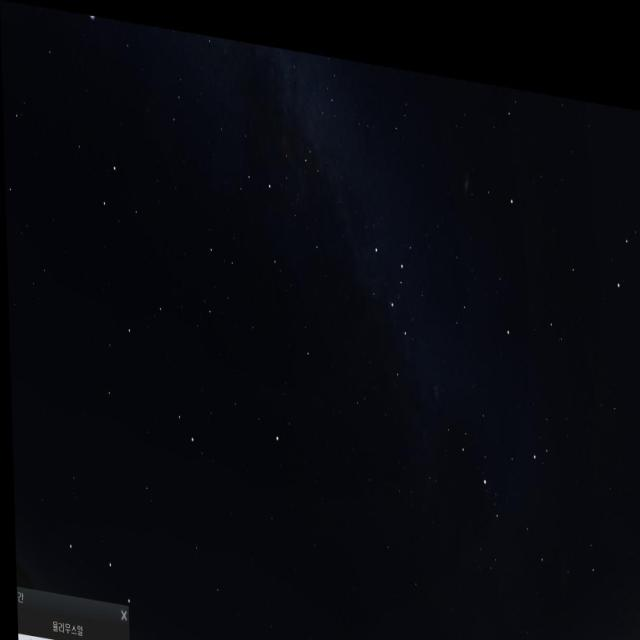cassiopeia: (358, 219, 422, 378)
pleiades: (632, 516, 640, 578)
